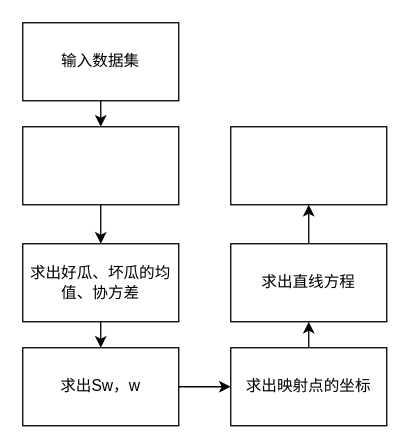
Image size: 410x448. Some labels were removed from this diagram. Each missing label, with the centre of its shape:
"划分好瓜，坏瓜" goes at [100,165].
"画出原来的点、映射后的点以及直线查看效果" goes at [308,165].
